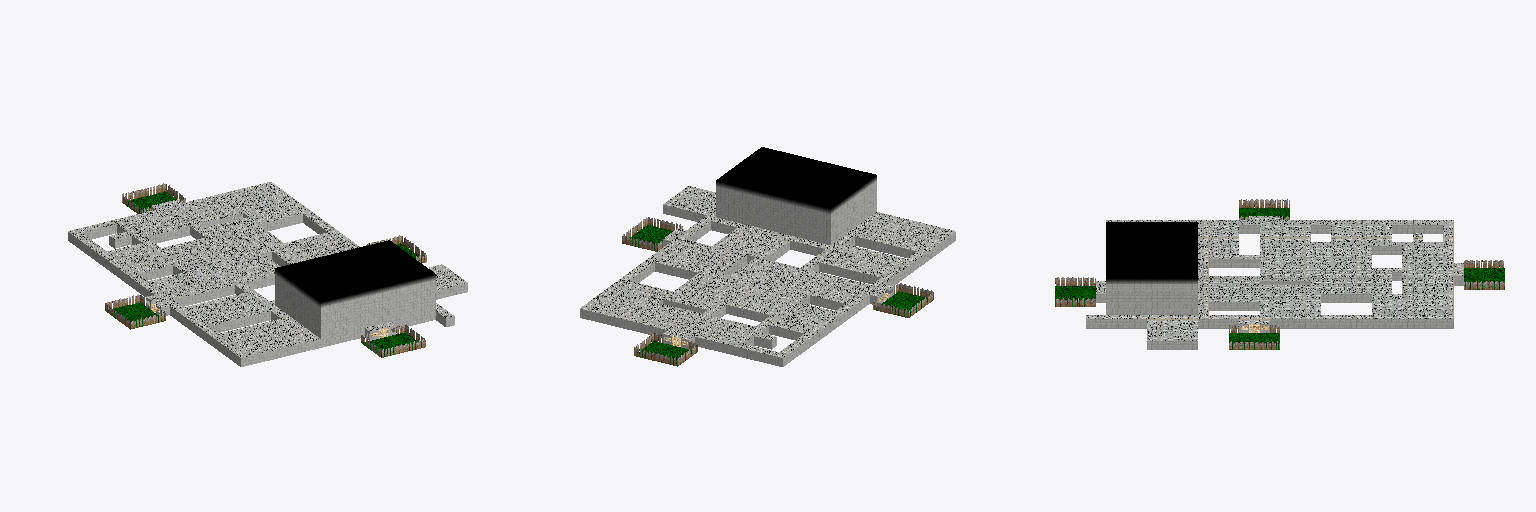
3 views of the same model, side by side, from view 1: azimuth 30°, elevation 25°; view 2: azimuth 150°, elevation 25°; view 3: azimuth 270°, elevation 25° (orthographic).
Visible parts, largest first — view 1: School_CombinedMesh; view 2: School_CombinedMesh; view 3: School_CombinedMesh.
Part boxes in pixels (bbox=[...]): School_CombinedMesh: bbox=[68, 182, 467, 366]; School_CombinedMesh: bbox=[580, 147, 955, 366]; School_CombinedMesh: bbox=[1055, 199, 1504, 349].
Bounding box in the file's own units: 33 × 5 × 44.
Materials: 2 (1 with a texture image).